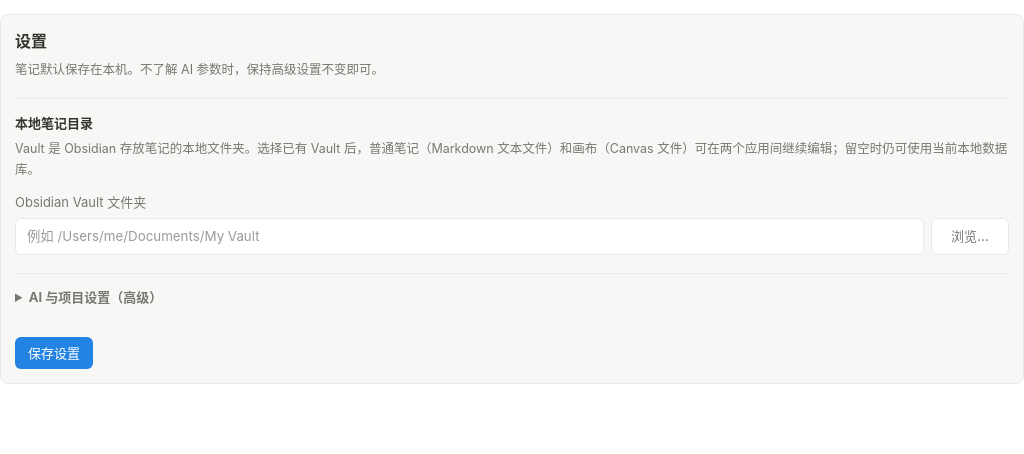
Test: SettingsPanel › recovers the form and explains when saving times out
Expected: the element named "模型名称" is shown, [15,273,1009,321]
What coordinates should you click on to do the following:
click the button "保存设置"
I would click on:
 (54, 353)
Its box is [15,337,93,370].
Wait 10000 ms
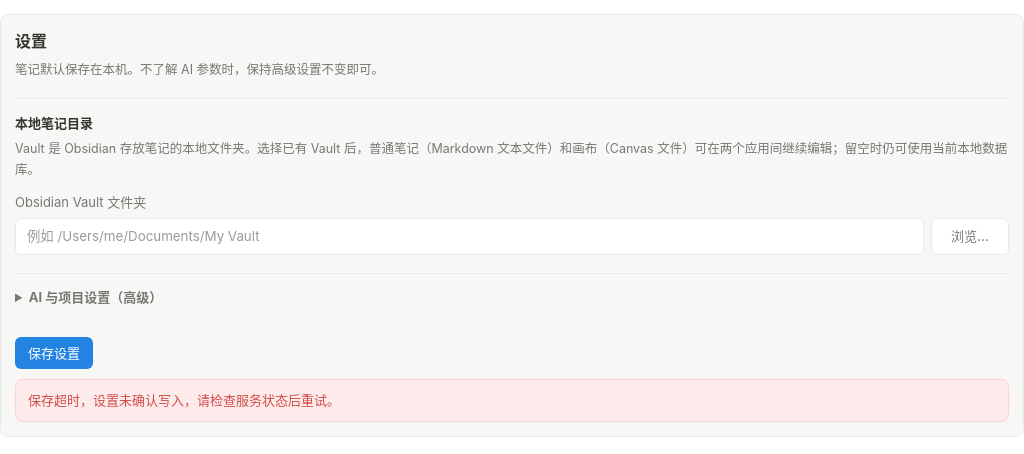
Expected: the element named "模型名称" is enabled, [15,273,1009,321]
Expected: the message shows "保存超时", [28,392,340,408]
